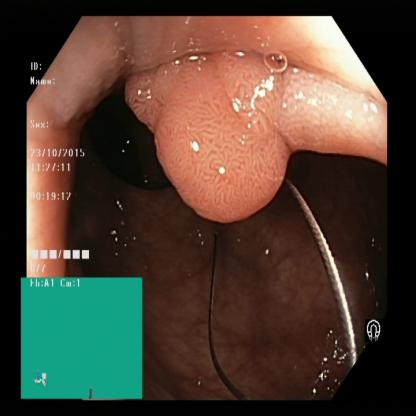Labels: (18, 276, 145, 402), (27, 58, 98, 277), (363, 304, 391, 348)
Polyps: (129, 67, 297, 222)
